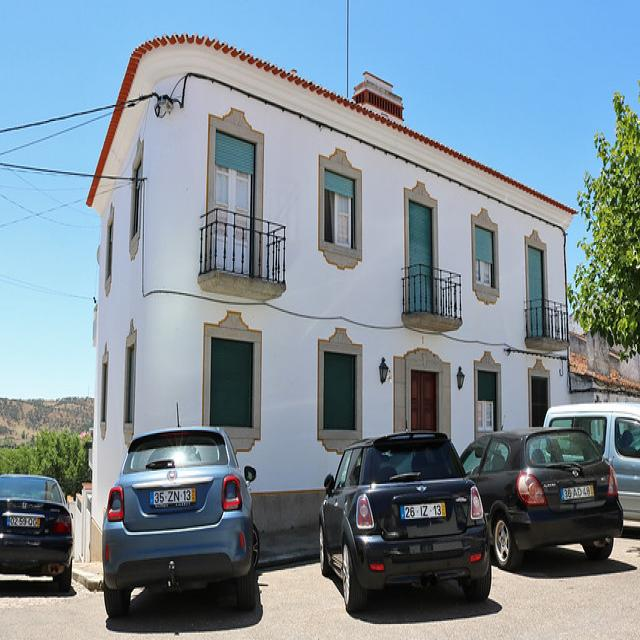Normal_building: (83, 33, 580, 568)
